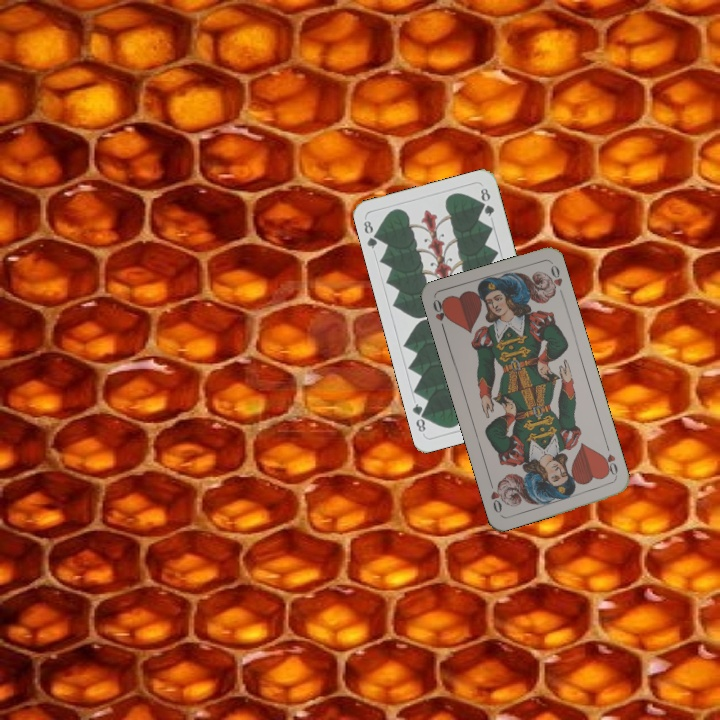G8: (359, 216, 383, 251)
HO: (598, 441, 620, 481), (429, 295, 451, 335)
